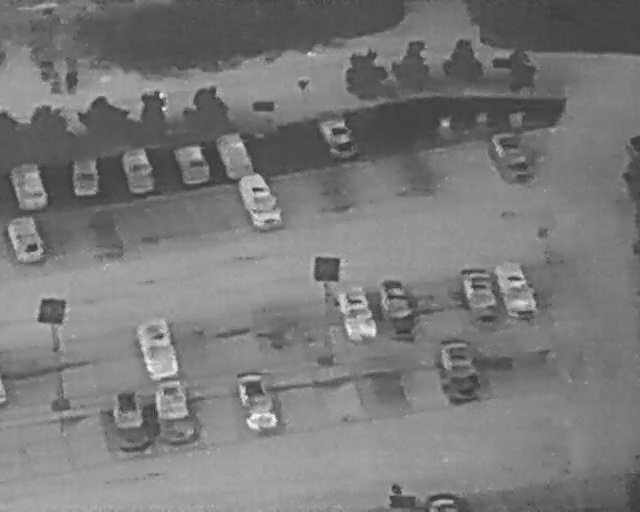Bicycle: (40, 59, 54, 82), (65, 71, 79, 93), (50, 72, 63, 93), (64, 56, 77, 74)
Car: (233, 165, 288, 236), (132, 311, 180, 382), (436, 336, 483, 407), (332, 280, 381, 347), (486, 124, 536, 186), (491, 255, 539, 318), (313, 109, 364, 167), (237, 367, 280, 434), (211, 127, 259, 185), (153, 378, 195, 444), (3, 212, 48, 265), (455, 261, 499, 315), (7, 160, 51, 213), (170, 140, 215, 191), (377, 272, 416, 324), (120, 148, 157, 196), (111, 387, 145, 429), (68, 154, 102, 195)
Person: (158, 89, 168, 113)
